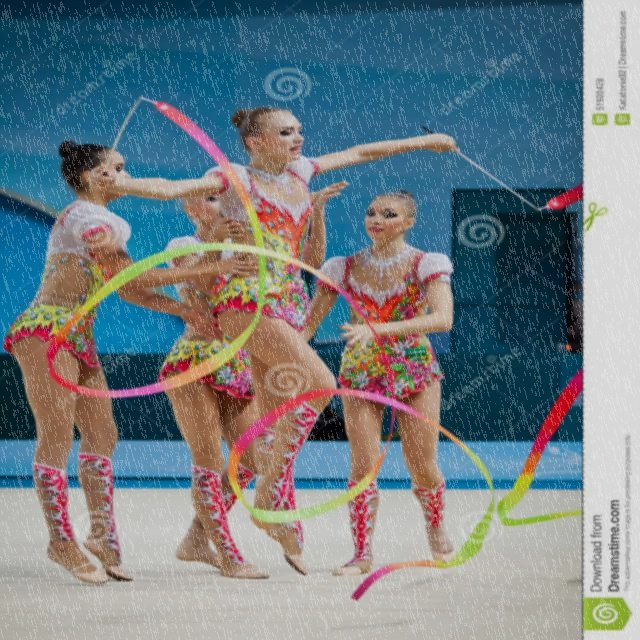pessoa: (84, 106, 463, 580), (1, 136, 267, 588), (156, 180, 352, 580), (286, 188, 461, 582)
